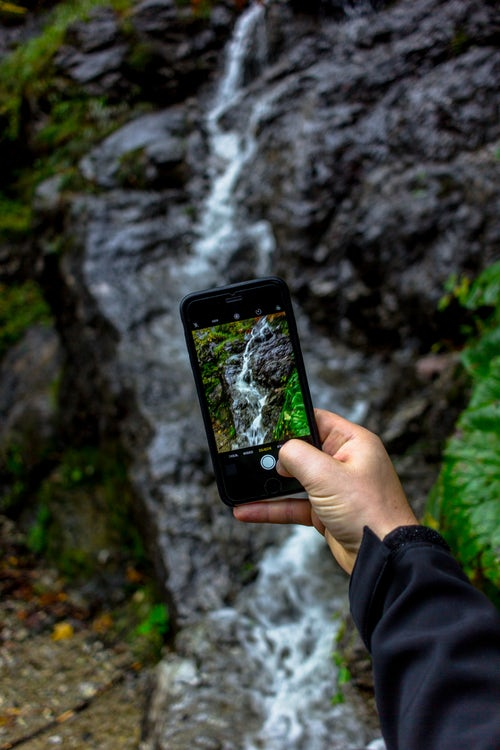phone: (177, 278, 329, 507)
